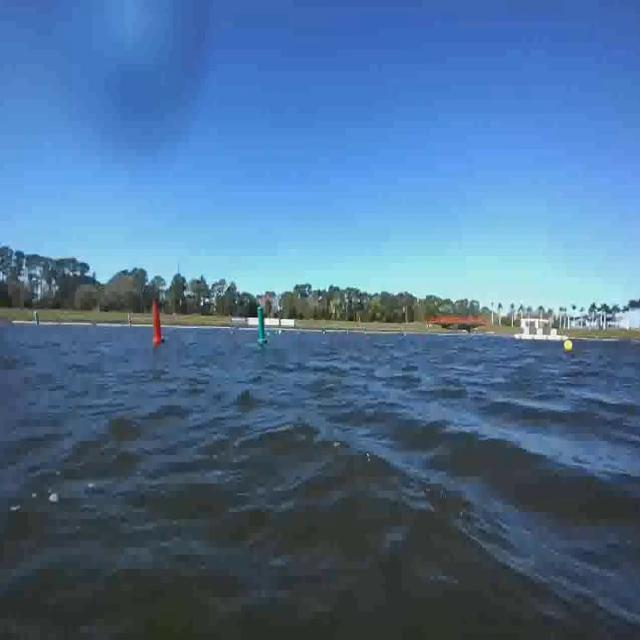green-column-buoy: (248, 300, 270, 352)
red-column-buoy: (144, 296, 166, 351)
